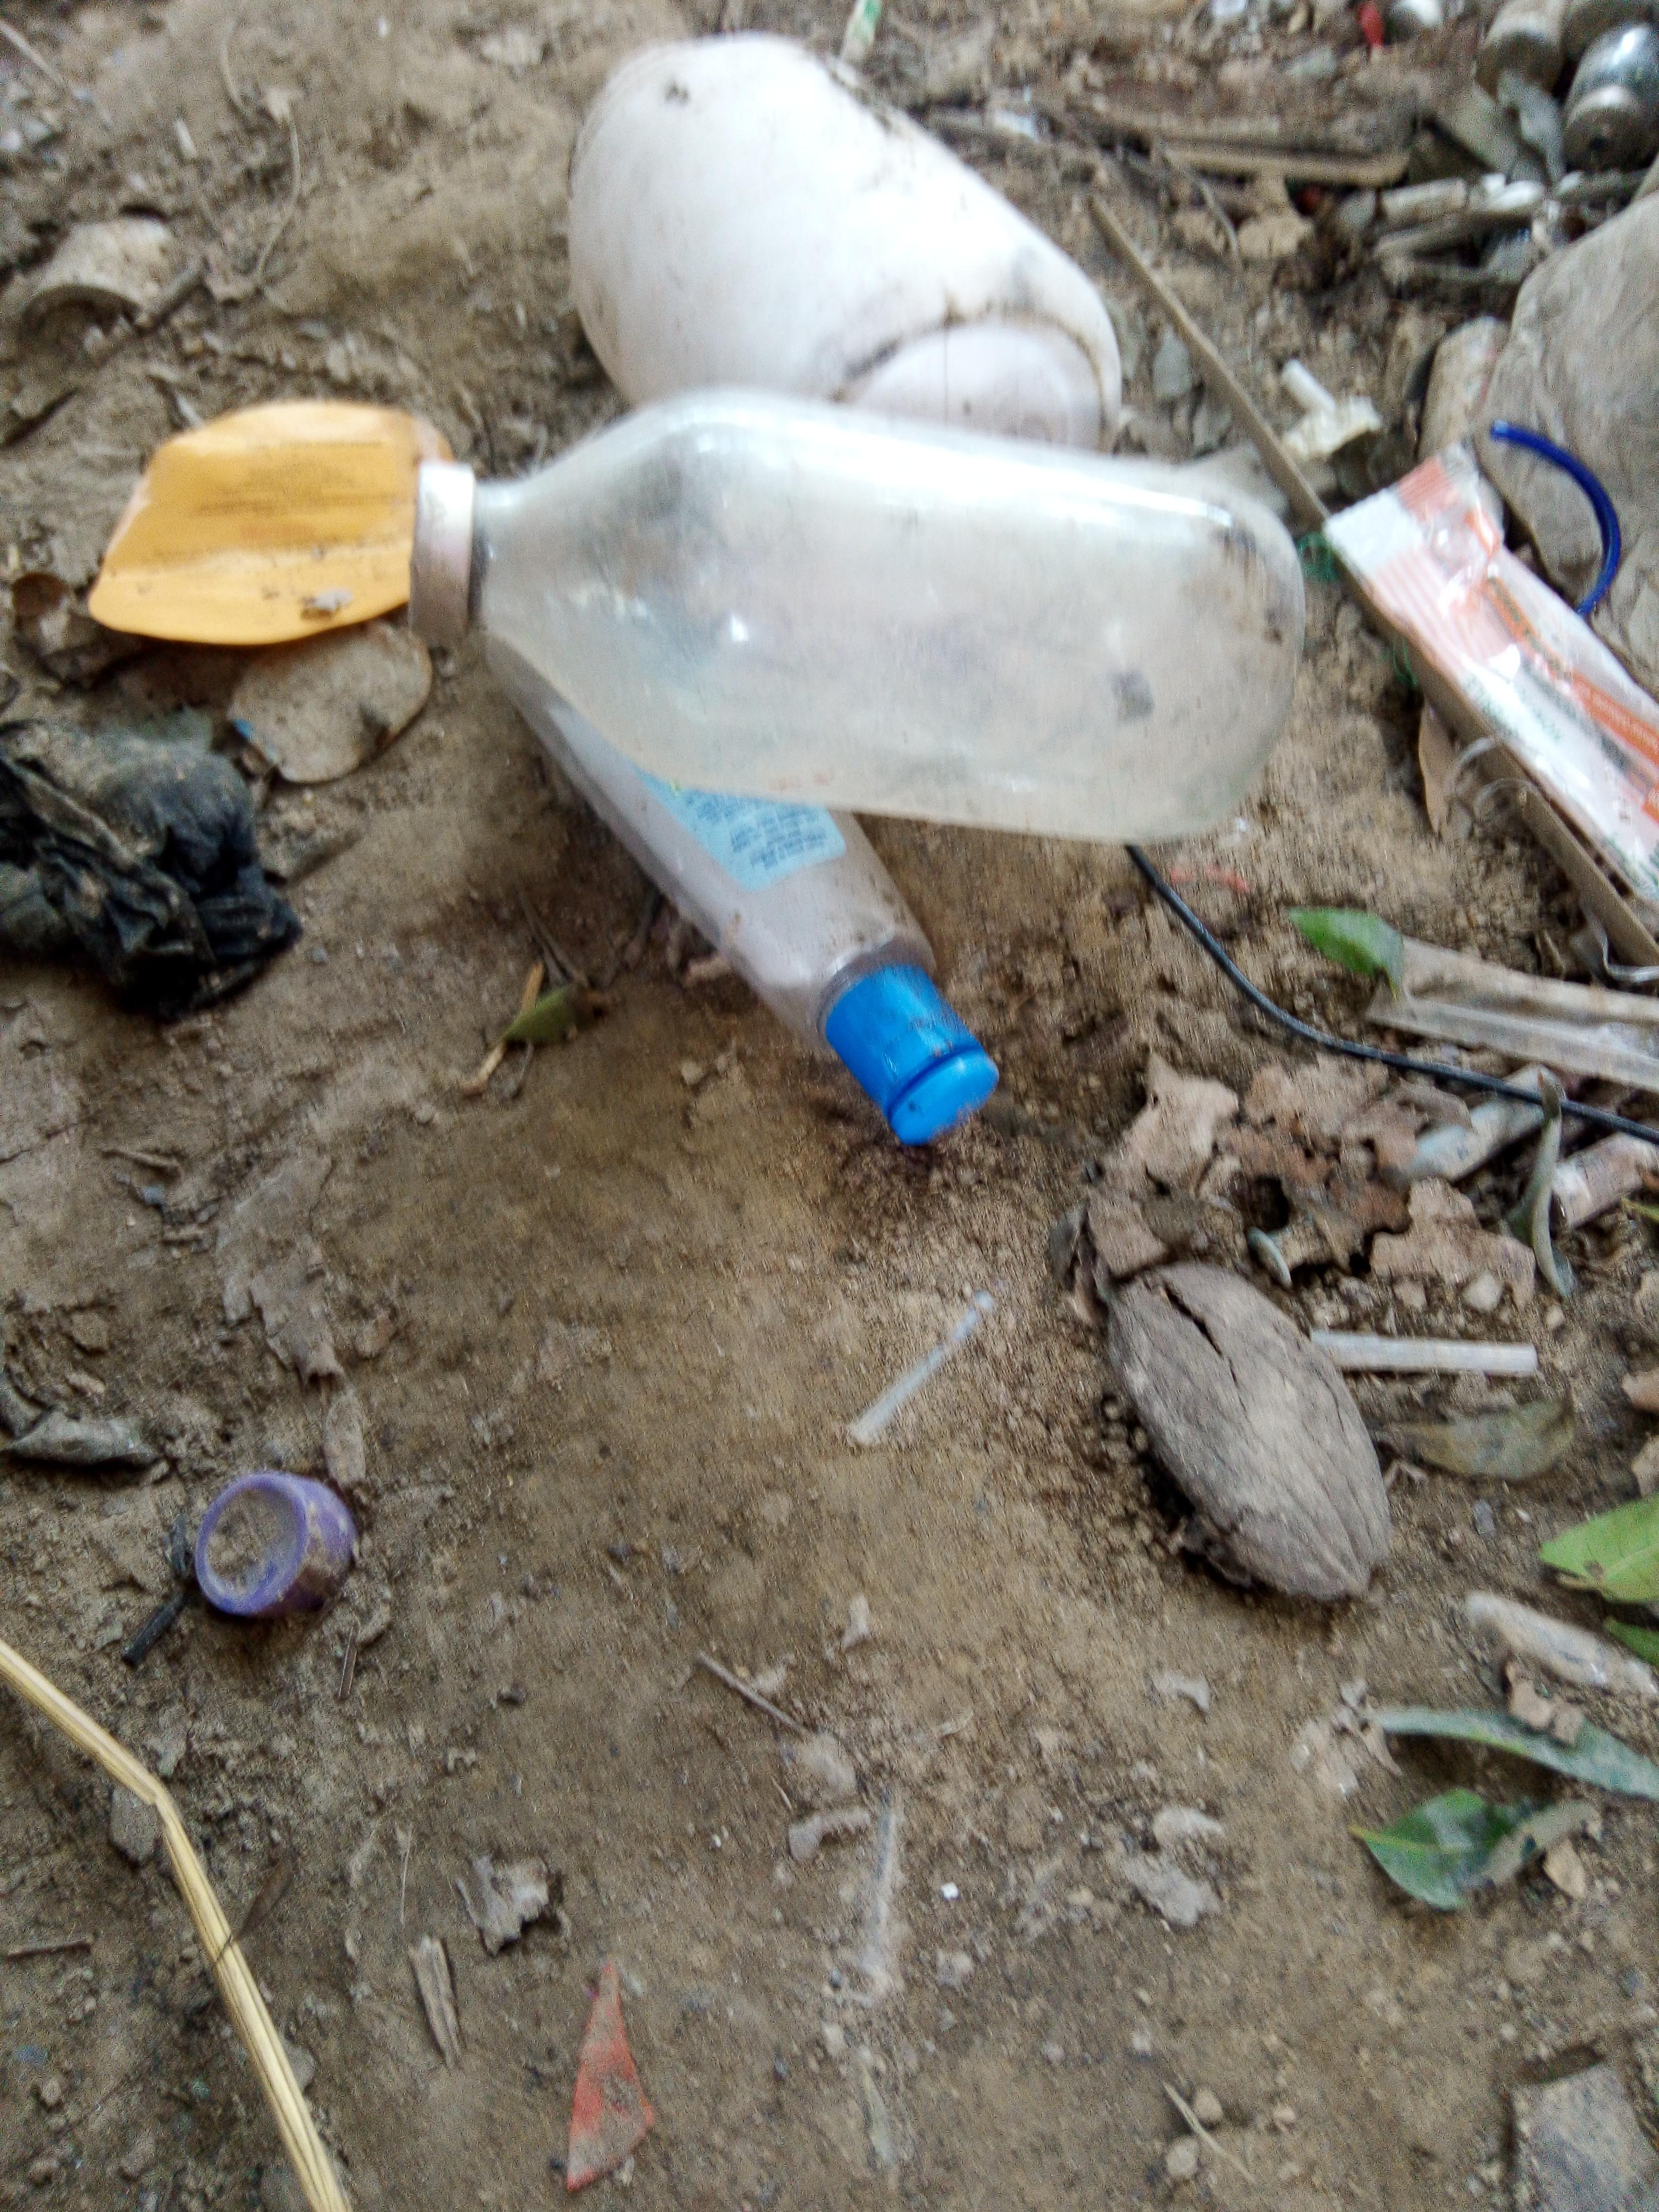trash: (179, 5, 1659, 1841)
